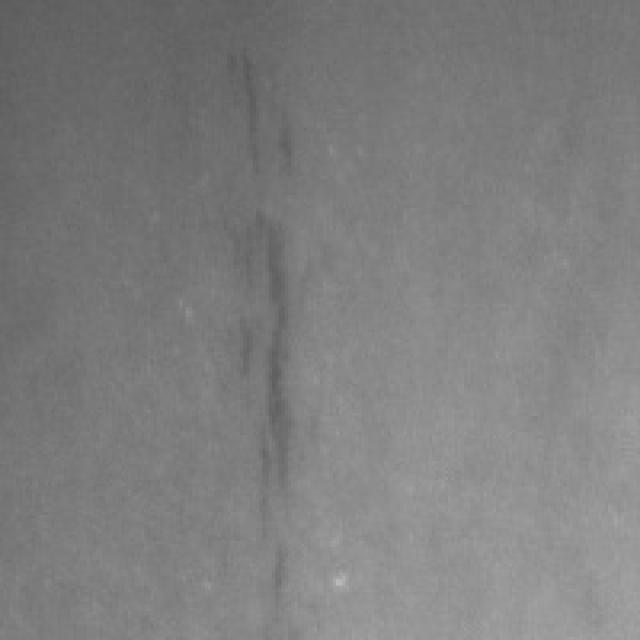inclusion: (211, 185, 307, 586), (227, 35, 298, 195)
